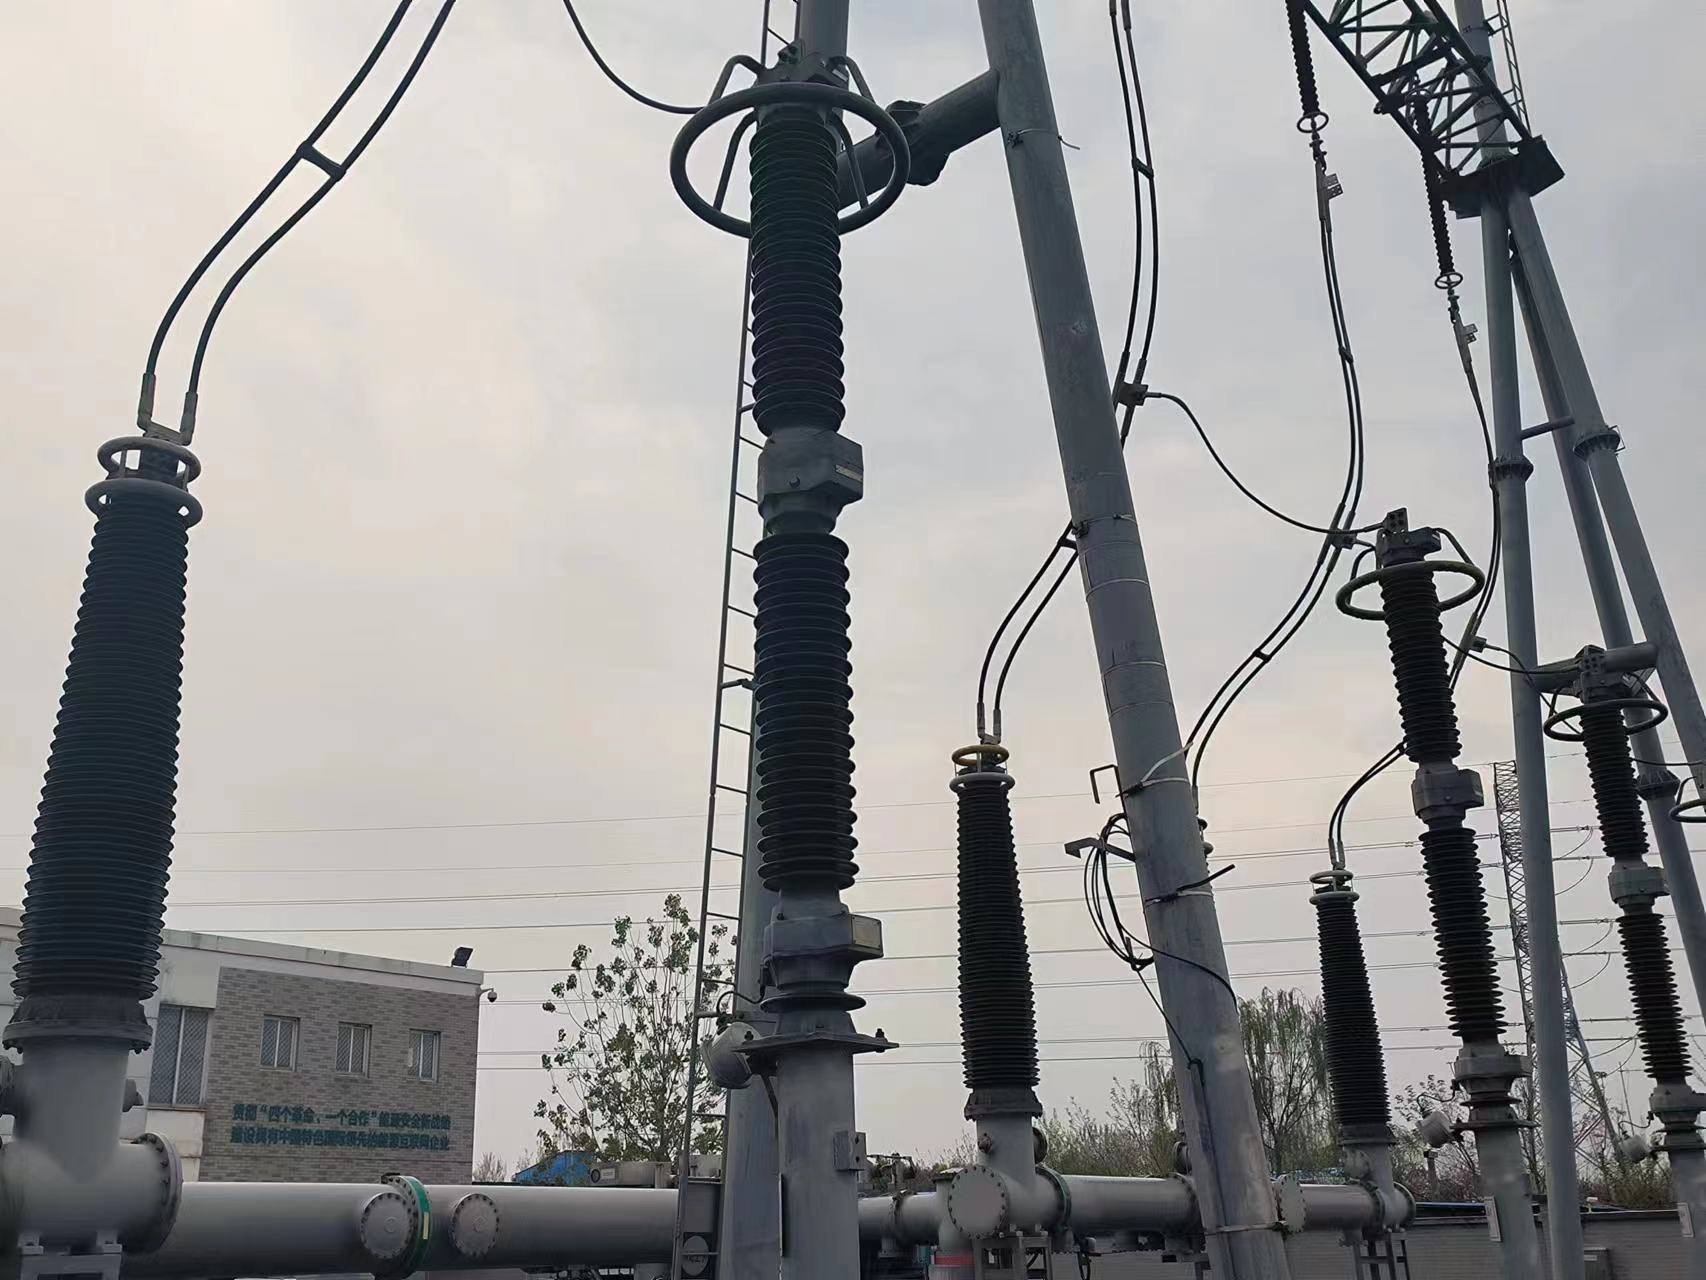Arrester: (665, 58, 917, 921), (1335, 506, 1508, 1043), (1541, 641, 1697, 1086)
Voltage transformer: (5, 432, 207, 1038), (946, 744, 1045, 1115), (1305, 874, 1404, 1146)
